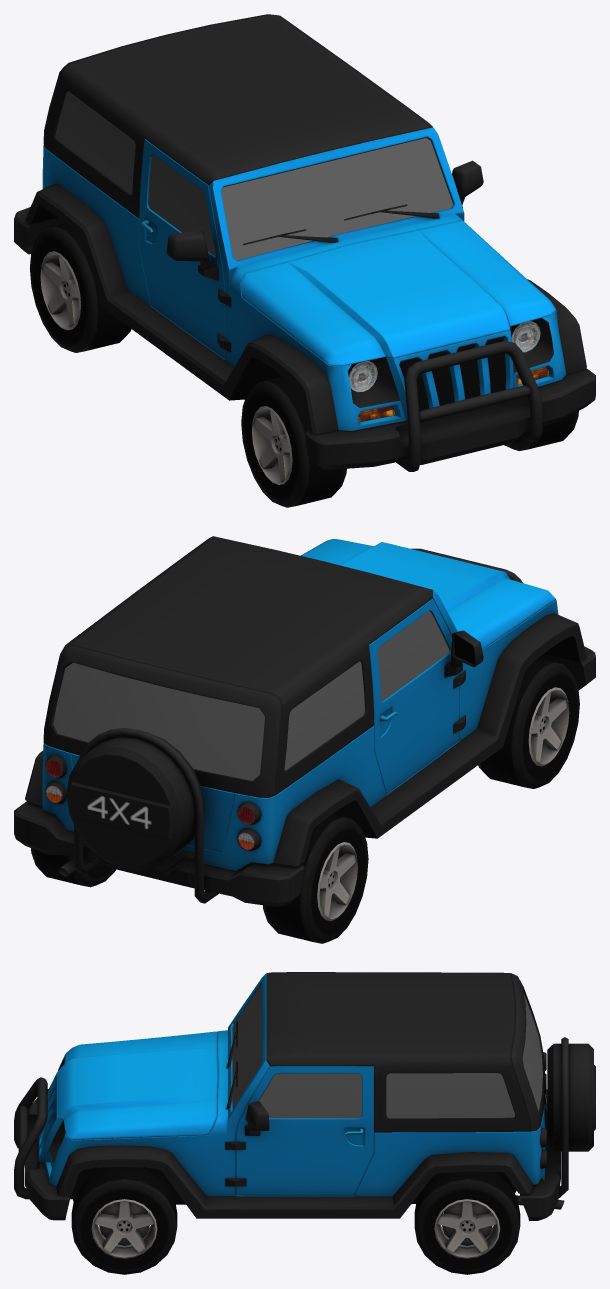
The model's file is Offroad.glb.
3 views of the same model, one above another, from view 1: azimuth 30°, elevation 25°; view 2: azimuth 150°, elevation 25°; view 3: azimuth 270°, elevation 25° (orthographic). The views are drawn at different scales.
Parts seen in each view (by area): view 1: Offroad Body, Wheel_G001.001, Wheel_G002, Wheel_G; view 2: Offroad Body, Wheel_G001.001, Wheel_G002, Wheel_G001; view 3: Offroad Body, Wheel_G, Wheel_G001.
Part boxes in pixels (left/top/right/bottom): Offroad Body: left=14, top=14, right=595, bottom=471; Wheel_G001.001: left=241, top=376, right=346, bottom=507; Wheel_G002: left=30, top=223, right=131, bottom=352; Wheel_G: left=504, top=411, right=578, bottom=450; Offroad Body: left=14, top=536, right=595, bottom=906; Wheel_G001.001: left=478, top=658, right=579, bottom=788; Wheel_G002: left=263, top=814, right=368, bottom=943; Wheel_G001: left=31, top=848, right=116, bottom=887; Offroad Body: left=14, top=972, right=595, bottom=1220; Wheel_G: left=71, top=1167, right=177, bottom=1274; Wheel_G001: left=414, top=1171, right=520, bottom=1274.
Bounding box in the file's own units: 2.21 × 1.77 × 4.43.
4 materials, 3 textured.
